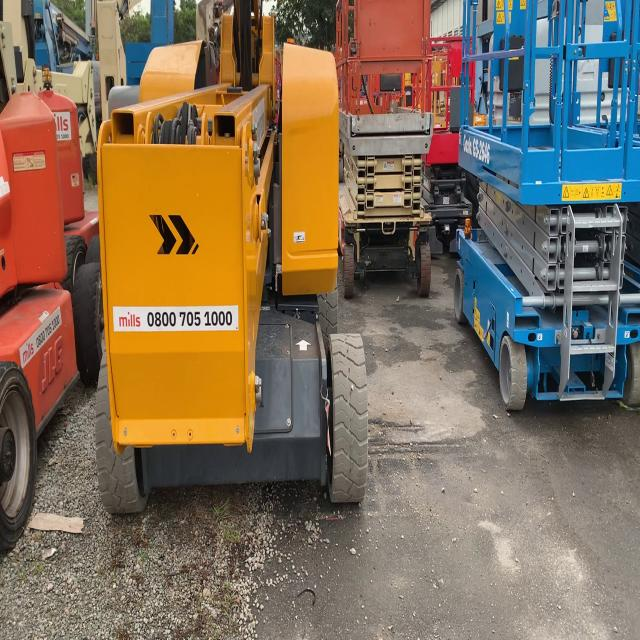Adesivo Longo: (111, 303, 240, 334), (18, 302, 64, 373)
